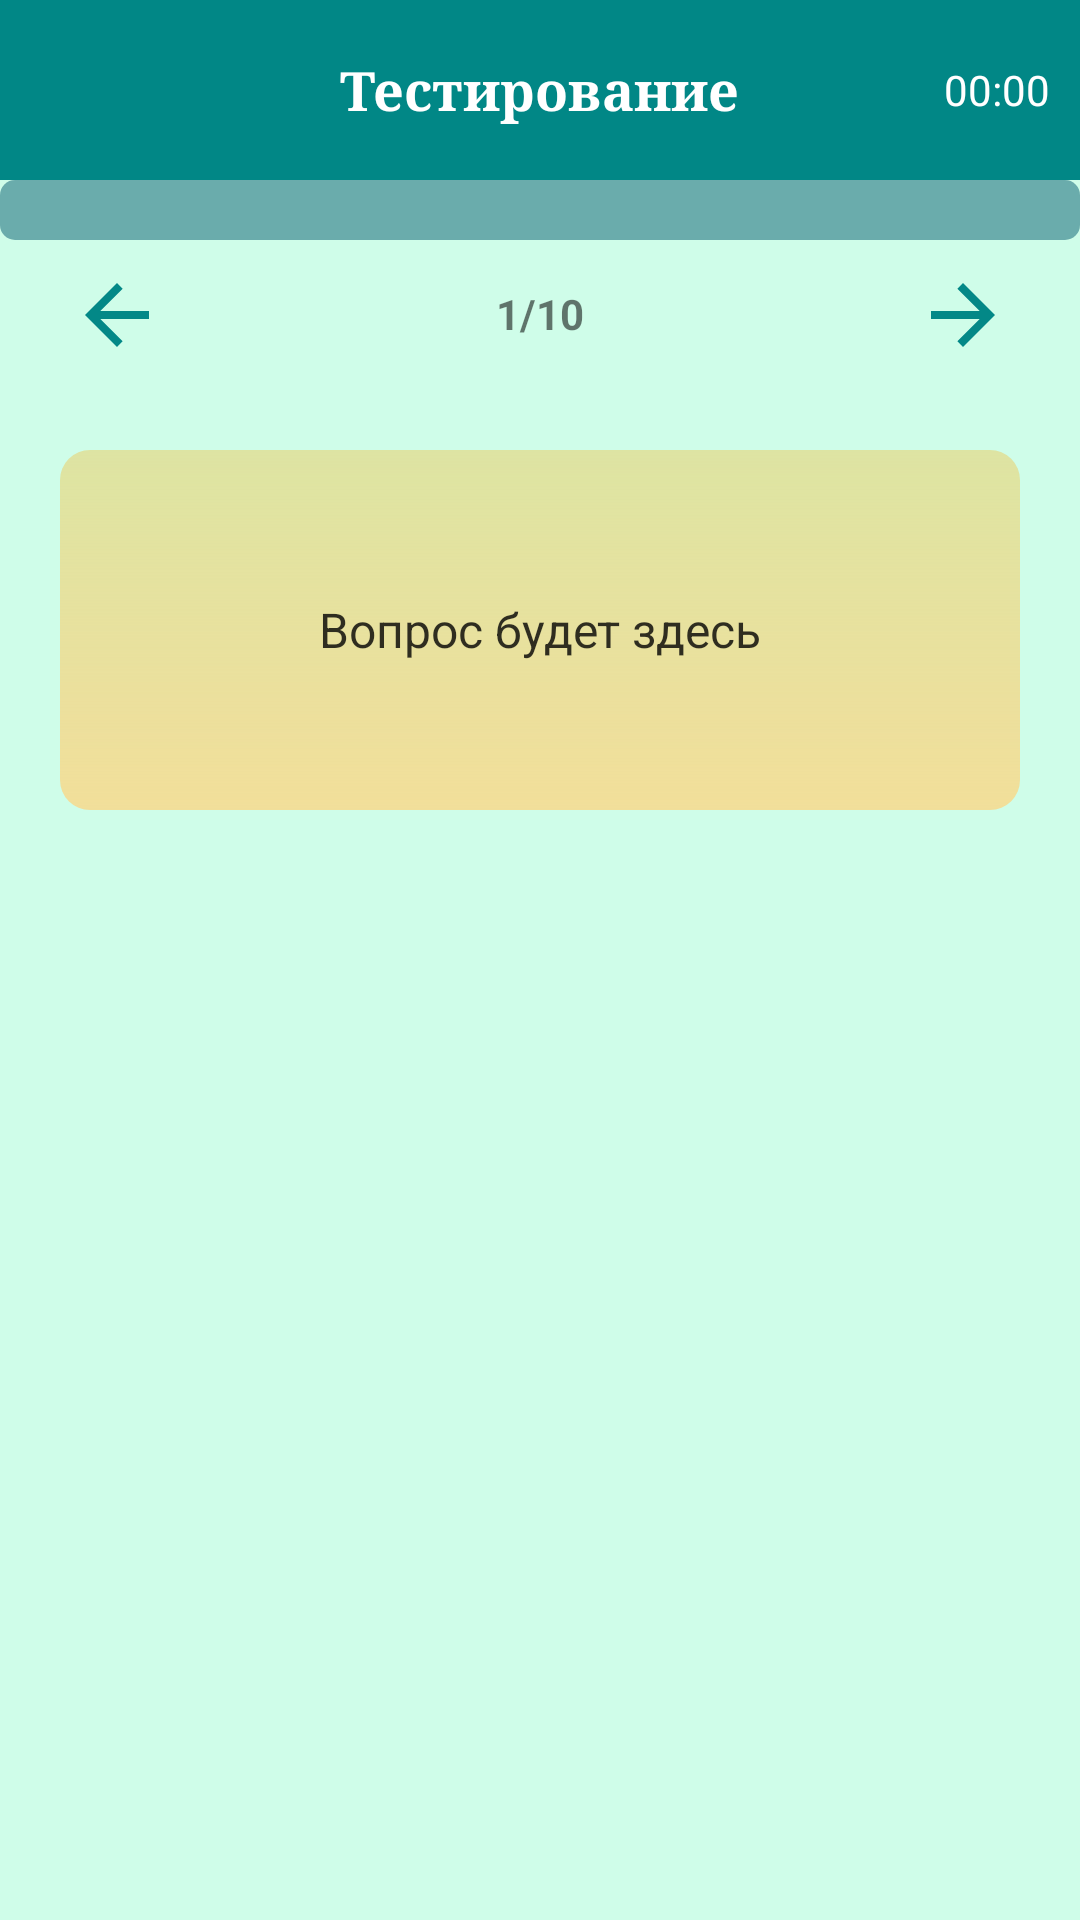

Where to tap for icons on this 1080×1920 app screen, as (x=x, y=y):
arrow back: (x=117, y=315)
arrow next: (x=963, y=315)
